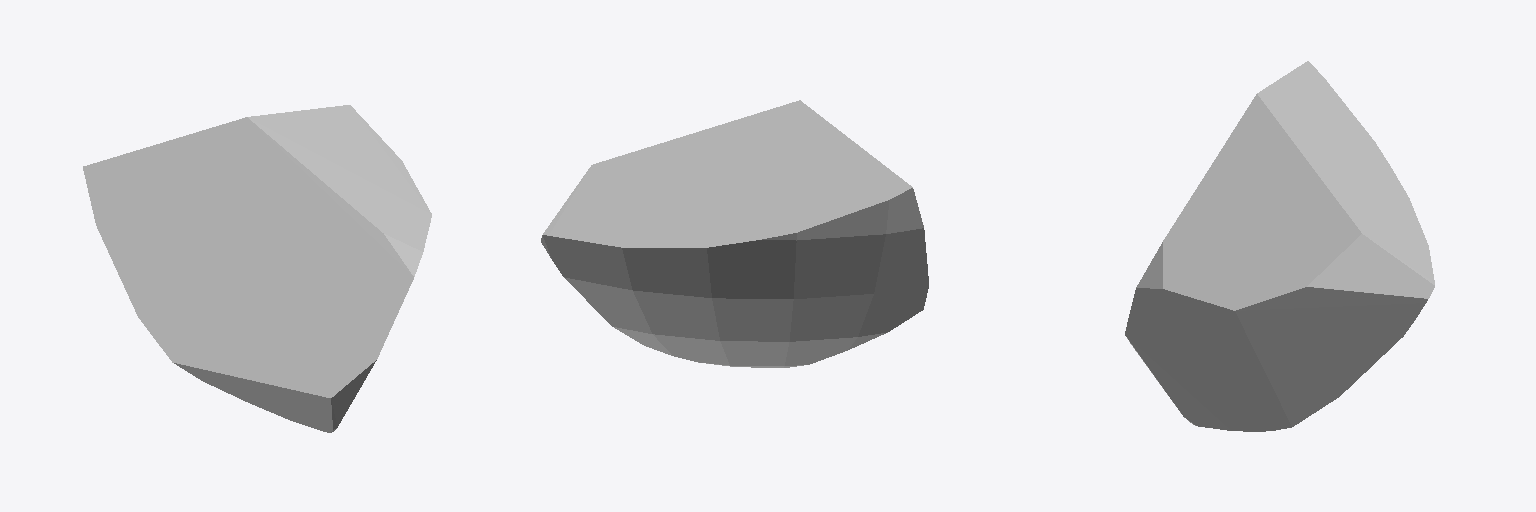
Rendered from Sphere_Cell_Fracture49.obj.
3 renders of one model, left to right at view 1: azimuth 30°, elevation 25°; view 2: azimuth 150°, elevation 25°; view 3: azimuth 270°, elevation 25°, orthographic.
Size of the model in its own units: 0.7348 by 0.672 by 0.621.